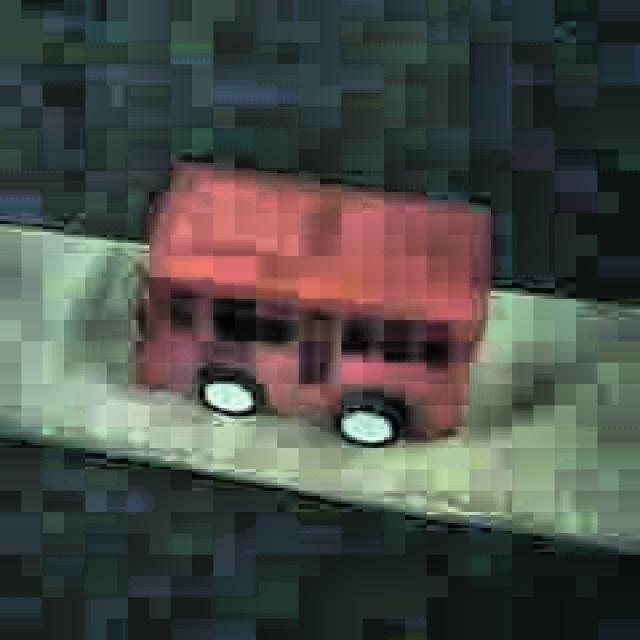bus: (130, 163, 495, 449)
